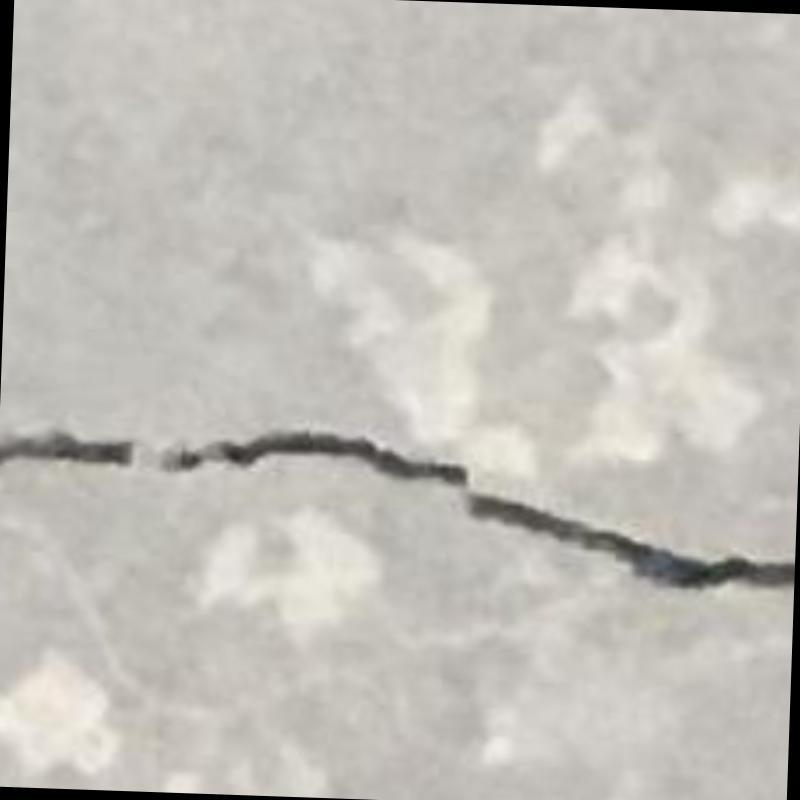crack: (0, 428, 795, 594)
